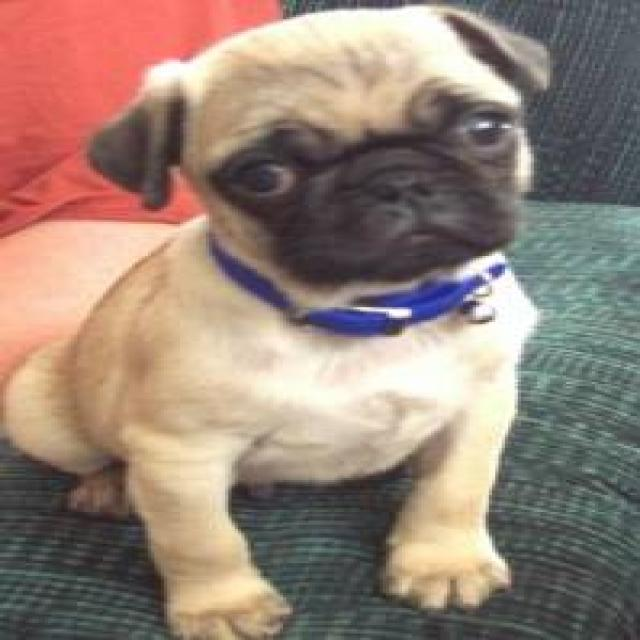dog-pug: (3, 2, 563, 636)
